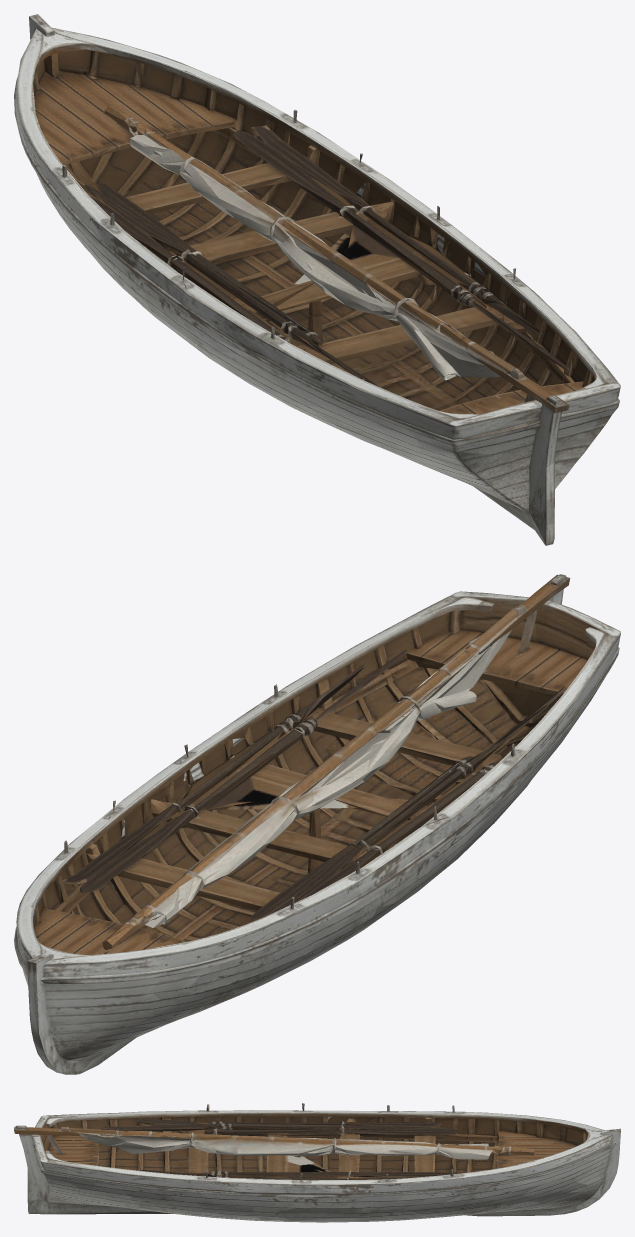
File: launch.glb
3 views of the same model, one above another, from view 1: azimuth 30°, elevation 25°; view 2: azimuth 150°, elevation 25°; view 3: azimuth 270°, elevation 25° (orthographic). The views are drawn at different scales.
Visible parts, largest first — view 1: output_unwrapped; view 2: output_unwrapped; view 3: output_unwrapped.
Boxes of the visible parts, x1,y1,x2,y2 form: output_unwrapped: (14, 14, 620, 545); output_unwrapped: (14, 574, 620, 1074); output_unwrapped: (14, 1103, 620, 1222).
Bounding box in the file's own units: 2.13 × 1.17 × 7.32.
1 material, 1 textured.
